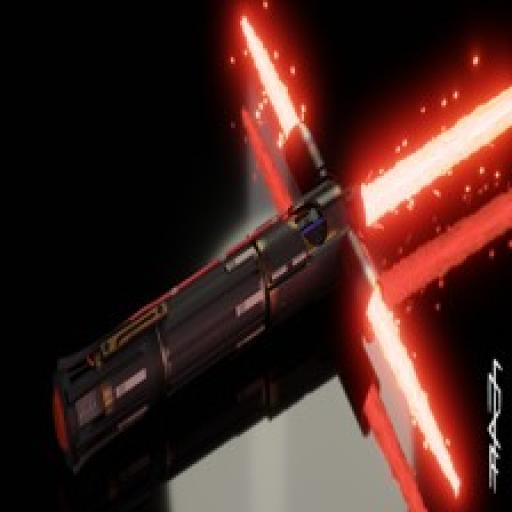sith saber: (0, 1, 510, 512)
